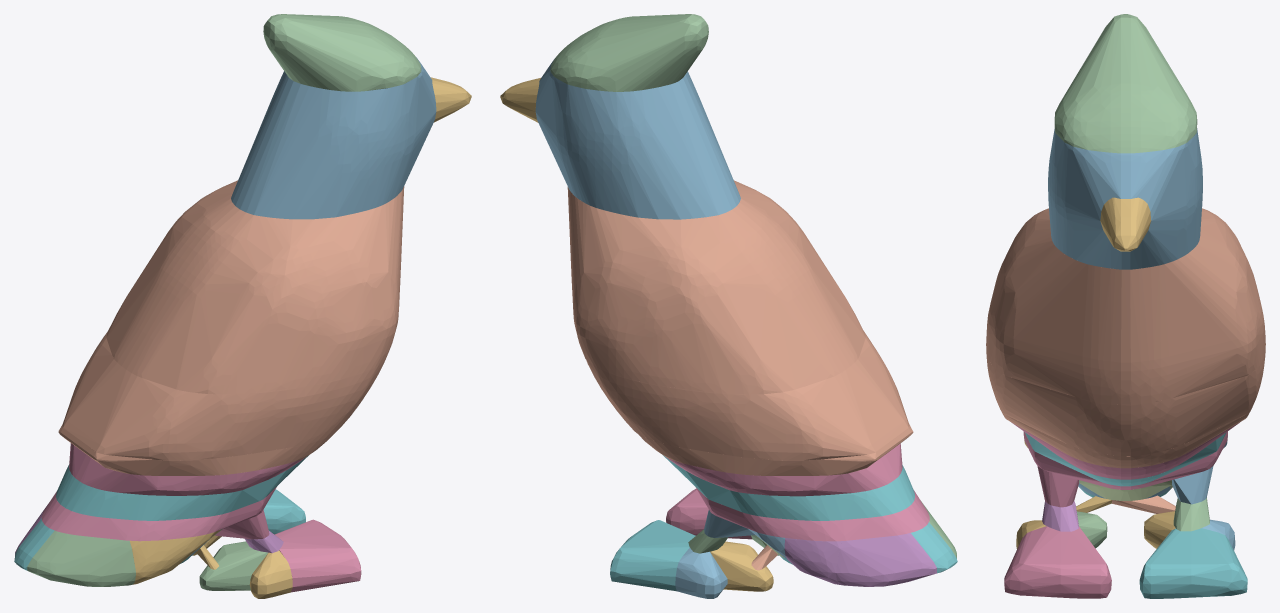
File: decoration_collision.glb
The picture shows the model from 3 angles, left to right: view 1: azimuth 30°, elevation 25°; view 2: azimuth 150°, elevation 25°; view 3: azimuth 270°, elevation 25°; orthographic projection. The views are drawn at different scales.
Parts seen in each view (by area): view 1: world; view 2: world; view 3: world.
Boxes of the visible parts, x1=… form: world: x1=14, y1=14, x2=471, y2=598; world: x1=500, y1=14, x2=957, y2=598; world: x1=986, y1=14, x2=1265, y2=598.
Bounding box in the file's own units: 0.2452 × 0.2764 × 0.1232.
